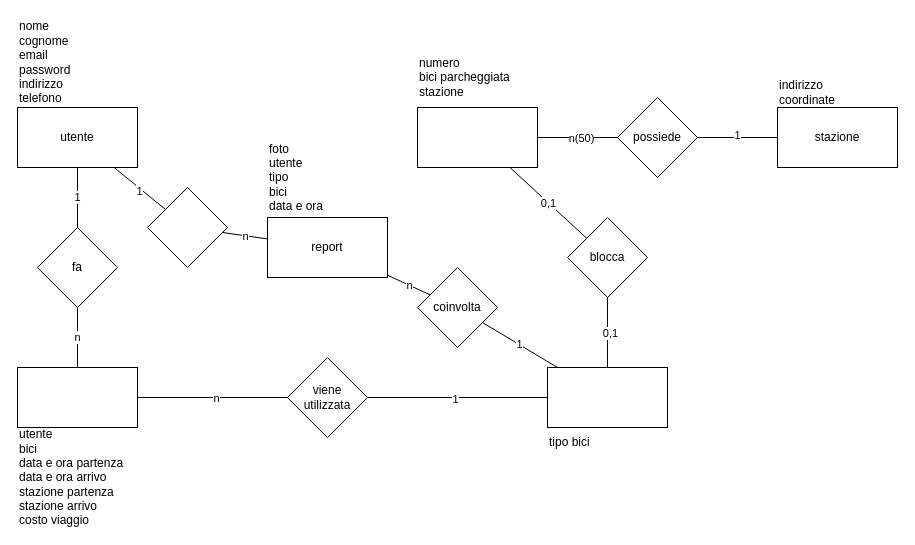
Image size: 915x545. Some labels were removed from this diagram. Each missing label, with the box of its shape:
bici: (546, 366, 668, 428)
segnala: (146, 186, 228, 268)
slot: (416, 106, 538, 168)
viaggio: (16, 366, 138, 428)
